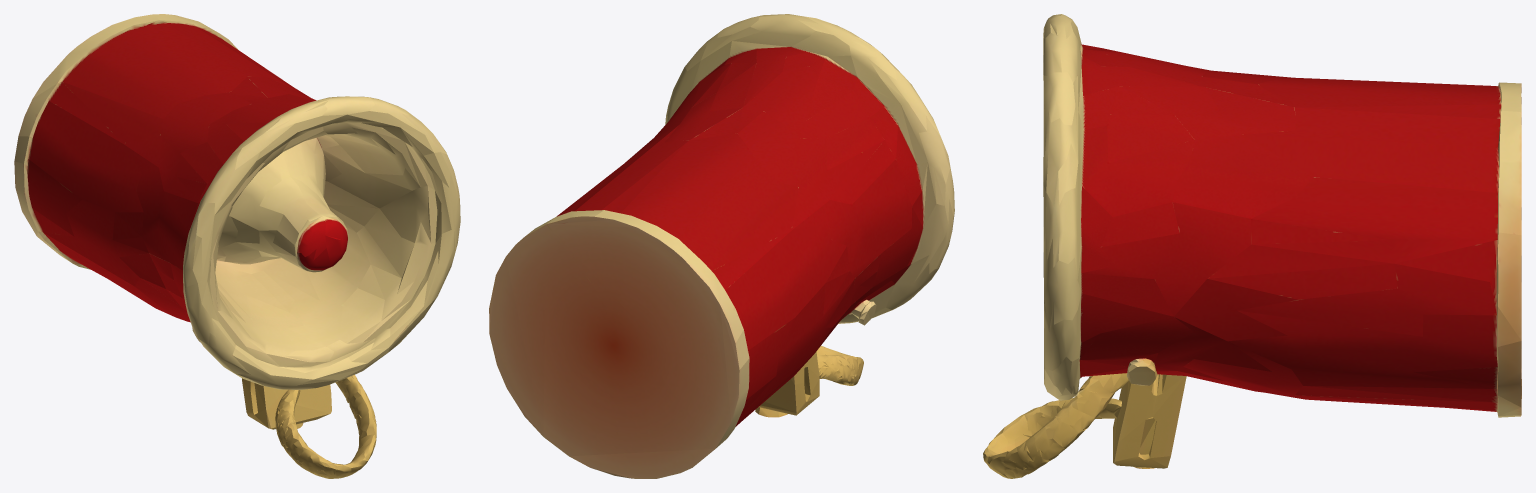
Rendered from countdown_speaker.glb.
3 views of the same model, side by side, from view 1: azimuth 30°, elevation 25°; view 2: azimuth 150°, elevation 25°; view 3: azimuth 270°, elevation 25° (orthographic). The views are drawn at different scales.
Bounding box in the file's own units: 1.37 × 1.73 × 1.9.
Materials: 1 (1 with a texture image).
